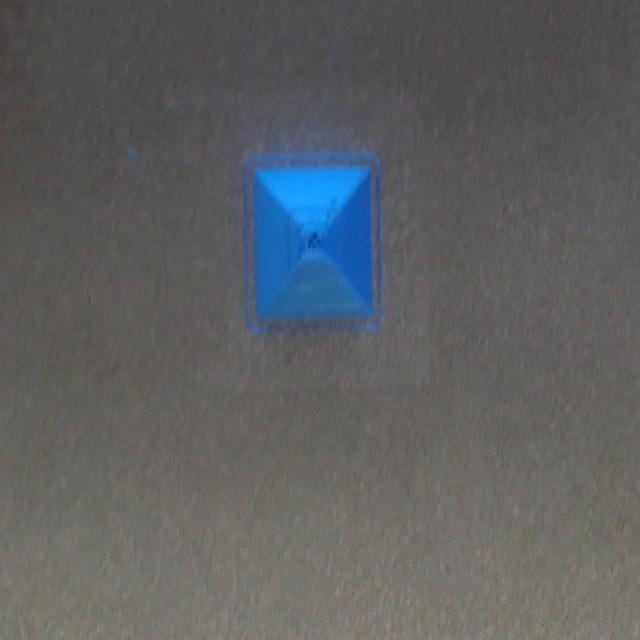mistake: (301, 228, 326, 261)
